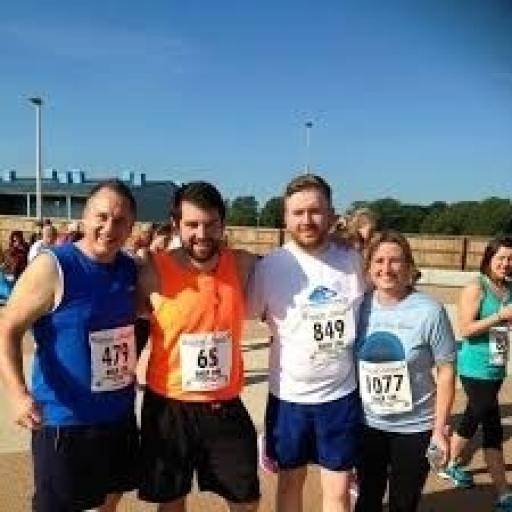running: (0, 178, 150, 510), (132, 178, 266, 510), (246, 171, 375, 510), (346, 226, 462, 510), (439, 231, 510, 510)
